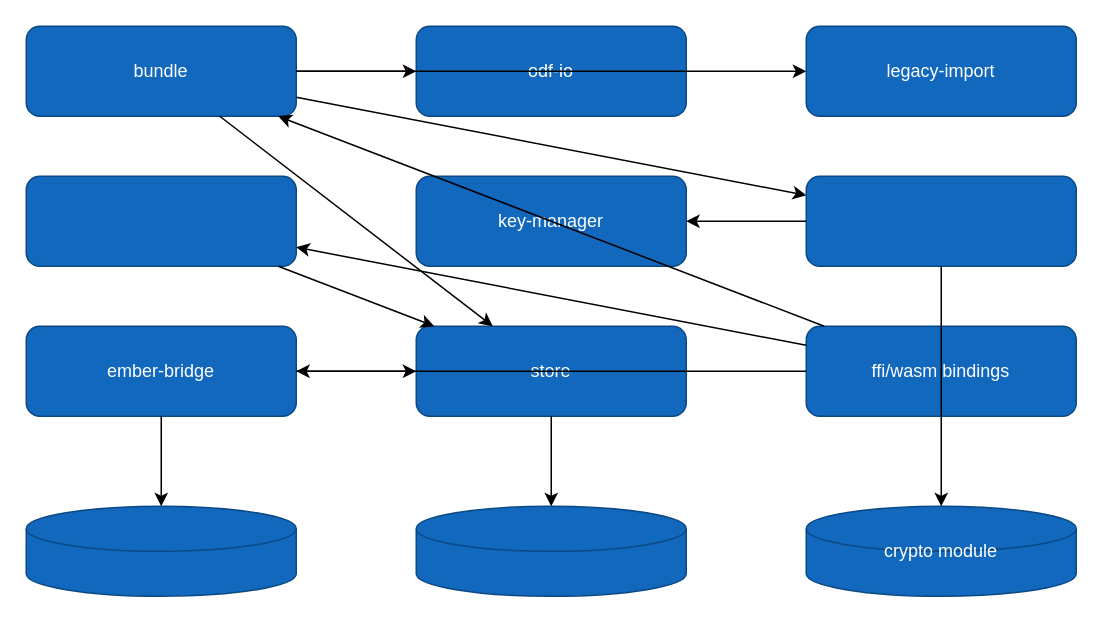
This 1103x623 diagram has some shape labels left out. The shapes that lost their labels are listed below. From the top down, each one's box as (x1, y1, x2, y2) in pixels, then its label:
(25, 175, 296, 266): crdt-sync
(805, 175, 1076, 266): seal
(25, 505, 296, 596): Ember runtime
(415, 505, 686, 596): Local Store
